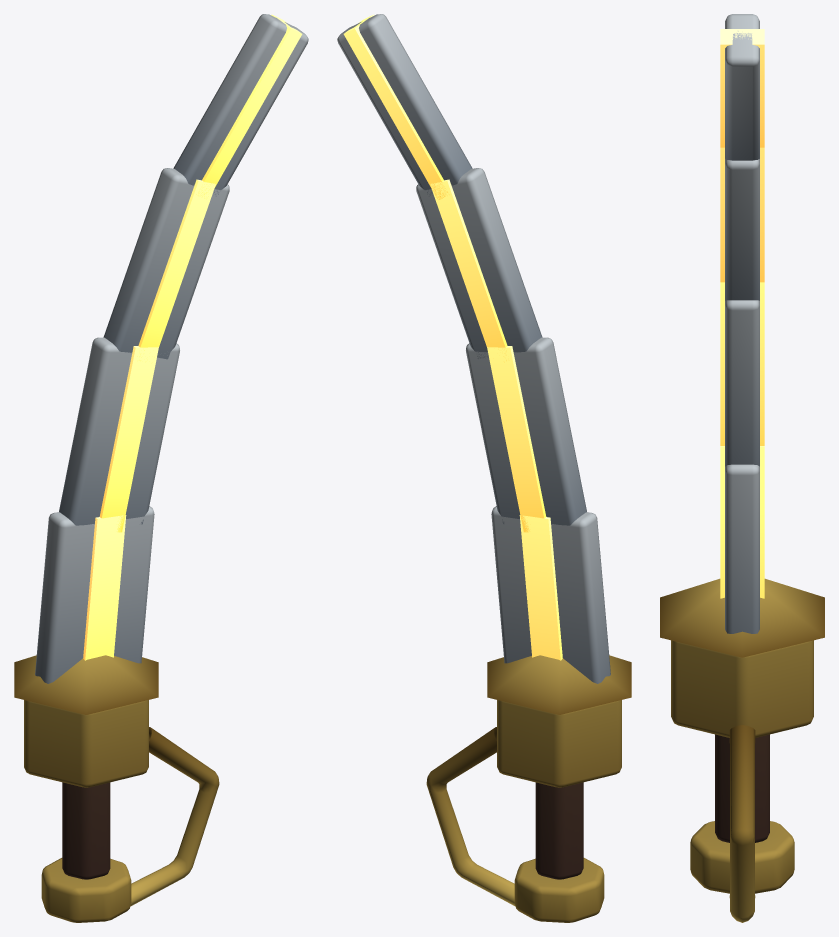
File: lg_lantern_saber.glb
3 views of the same model, side by side, from view 1: azimuth 30°, elevation 25°; view 2: azimuth 150°, elevation 25°; view 3: azimuth 270°, elevation 25° (orthographic). The views are drawn at different scales.
Parts seen in each view (by area): view 1: lg_lantern_saber, lg_lantern_saber_glow; view 2: lg_lantern_saber, lg_lantern_saber_glow; view 3: lg_lantern_saber, lg_lantern_saber_glow.
Part boxes in pixels (box(x1,y1,x2,y2)): lg_lantern_saber: box(14, 14, 308, 922); lg_lantern_saber_glow: box(83, 14, 302, 660); lg_lantern_saber: box(337, 14, 631, 922); lg_lantern_saber_glow: box(343, 14, 562, 660); lg_lantern_saber: box(660, 14, 824, 922); lg_lantern_saber_glow: box(720, 29, 764, 598).
Bounding box in the file's own units: 0.6012 × 1.71 × 0.2598.
